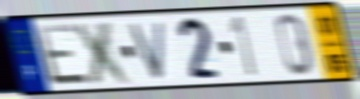0: (275, 11, 315, 79)
1: (229, 14, 260, 79)
2: (176, 15, 227, 84)
E: (33, 21, 93, 88)
V: (127, 18, 168, 82)
X: (70, 19, 137, 87)
